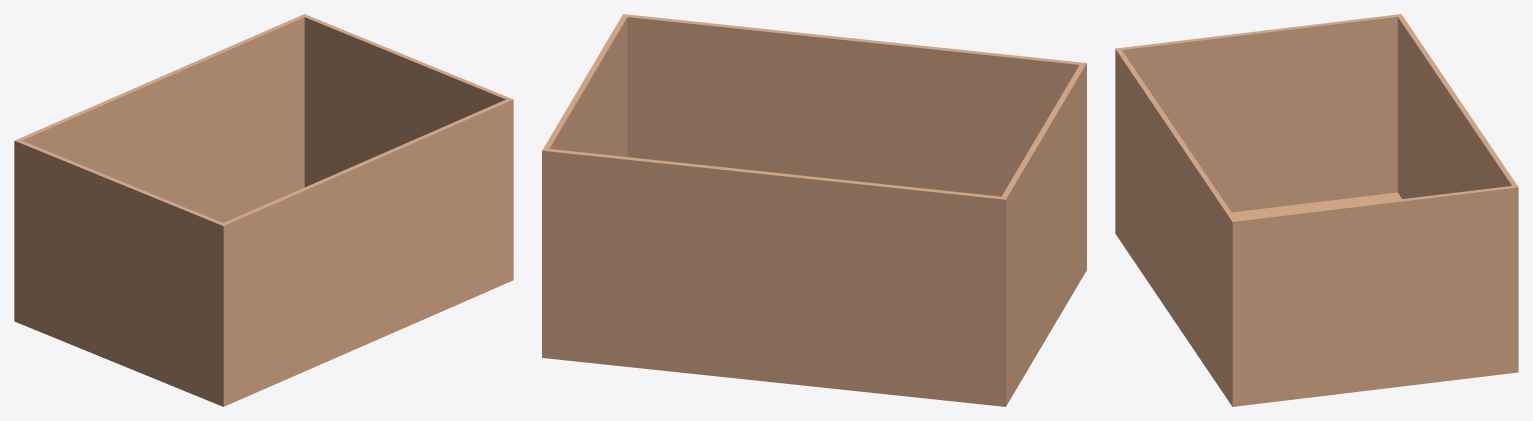
File: CartonRangement.fbx
3 views of the same model, side by side, from view 1: azimuth 30°, elevation 25°; view 2: azimuth 150°, elevation 25°; view 3: azimuth 270°, elevation 25° (orthographic). The views are drawn at different scales.
Visible parts, largest first — view 1: Cube.009; view 2: Cube.009; view 3: Cube.009.
Boxes of the visible parts, x1,y1,x2,y2 form: Cube.009: (14, 14, 513, 406); Cube.009: (542, 14, 1086, 406); Cube.009: (1115, 14, 1518, 406).
Size of the model in its own units: 133 by 55.34 by 109.
